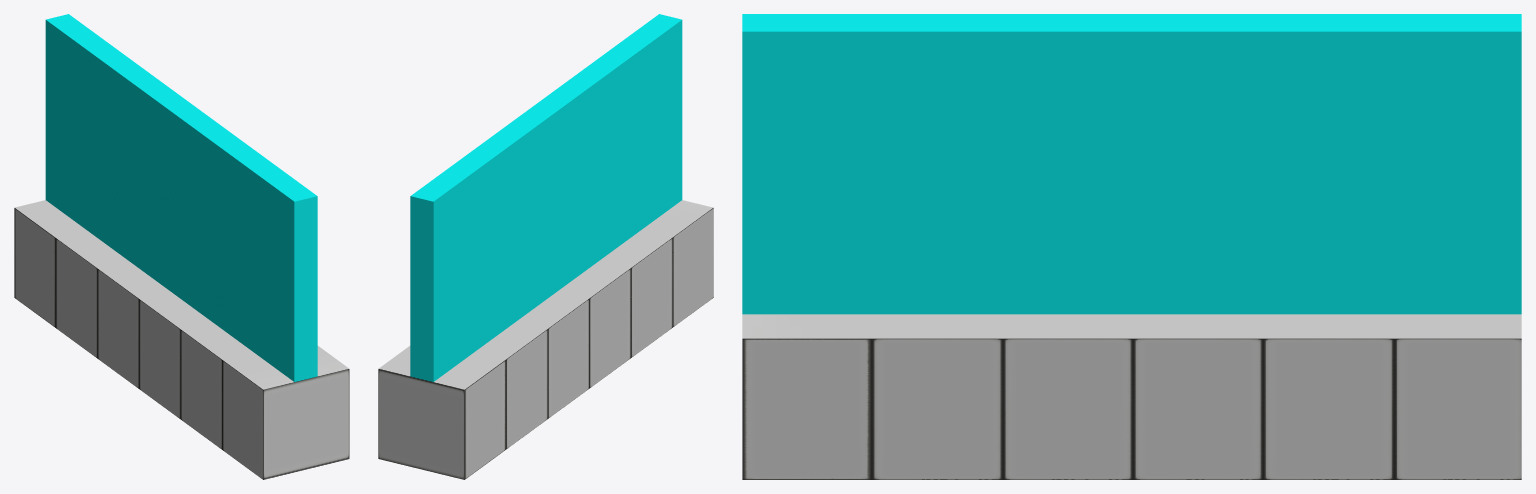
Rendered from wallWindow5L.fbx.
The picture shows the model from 3 angles, left to right: view 1: azimuth 30°, elevation 25°; view 2: azimuth 150°, elevation 25°; view 3: azimuth 270°, elevation 25°; orthographic projection. The views are drawn at different scales.
Parts seen in each view (by area): view 1: window5L, wallForWindow5L; view 2: window5L, wallForWindow5L; view 3: window5L, wallForWindow5L.
Part boxes in pixels (x1,y1,x2,y2): window5L: [45, 14, 317, 381]; wallForWindow5L: [14, 200, 349, 479]; window5L: [410, 14, 682, 381]; wallForWindow5L: [378, 200, 713, 479]; window5L: [742, 14, 1521, 314]; wallForWindow5L: [742, 314, 1521, 479].
Size of the model in its own units: 1 by 3 by 5.
